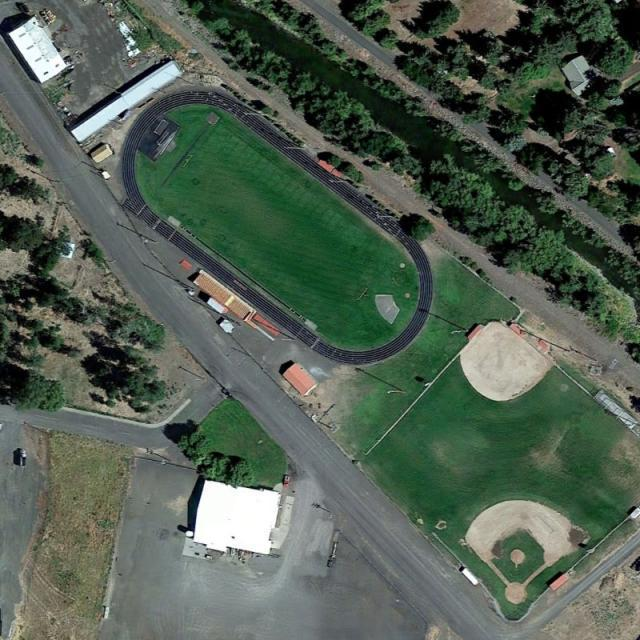vehicle: (461, 567, 478, 586), (19, 450, 26, 466)
